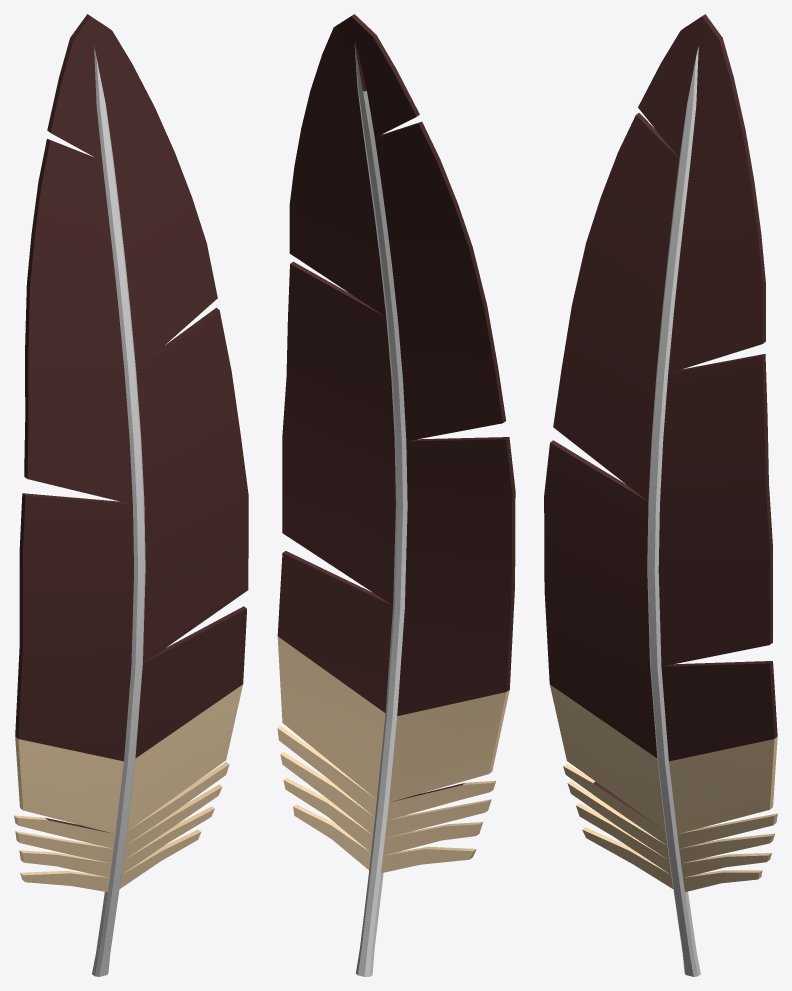
File: Feather.gltf
3 renders of one model, left to right at view 1: azimuth 30°, elevation 25°; view 2: azimuth 150°, elevation 25°; view 3: azimuth 330°, elevation 25°, orthographic.
Visible parts, largest first — view 1: Plane.159; view 2: Plane.159; view 3: Plane.159.
Part boxes in pixels (box(x1,y1,x2,y2)): Plane.159: box(14, 14, 248, 976); Plane.159: box(277, 14, 515, 976); Plane.159: box(544, 14, 777, 976).
Bounding box in the file's own units: 0.5038 × 2.03 × 0.2092.
Materials: 3 (1 with a texture image).
